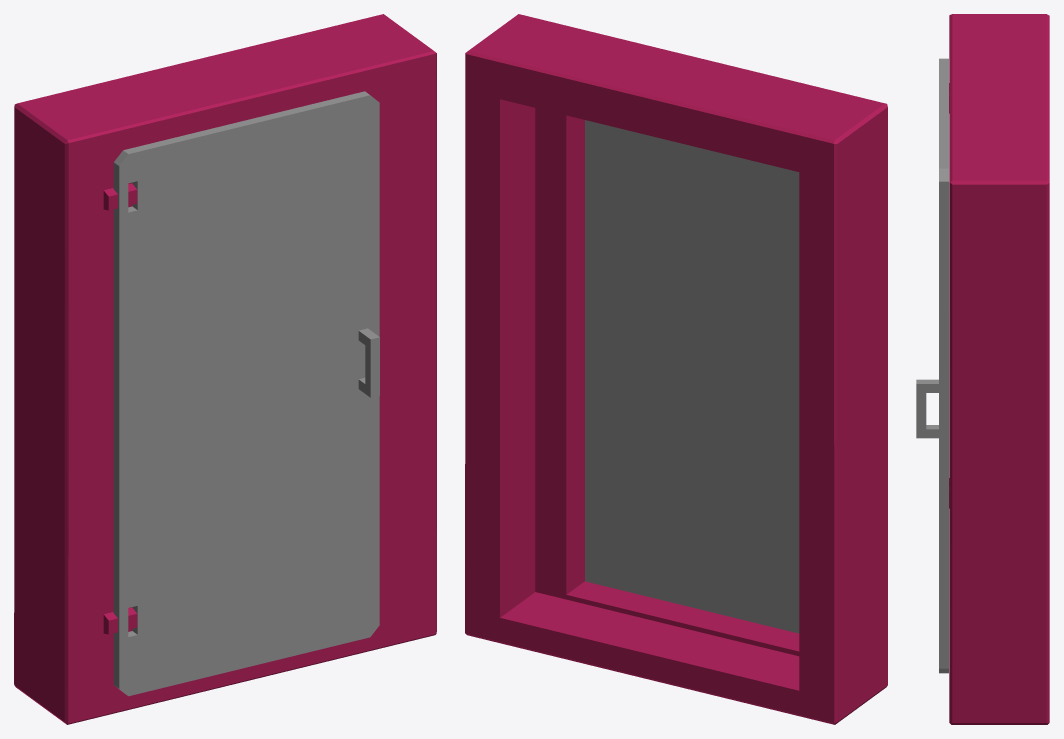
File: Part_House_Door_1X4_simple.FBX
3 views of the same model, side by side, from view 1: azimuth 30°, elevation 25°; view 2: azimuth 150°, elevation 25°; view 3: azimuth 270°, elevation 25° (orthographic). The views are drawn at different scales.
Visible parts, largest first — view 1: Part_House_Door, Part_House_Door_1X4_simple; view 2: Part_House_Door_1X4_simple, Part_House_Door; view 3: Part_House_Door_1X4_simple, Part_House_Door.
Boxes of the visible parts, x1,y1,x2,y2 form: Part_House_Door: (113, 91, 379, 696); Part_House_Door_1X4_simple: (14, 14, 436, 724); Part_House_Door_1X4_simple: (465, 14, 887, 724); Part_House_Door: (585, 120, 799, 633); Part_House_Door_1X4_simple: (949, 14, 1049, 724); Part_House_Door: (916, 58, 948, 673).
Bounding box in the file's own units: 400 × 600 × 133.
